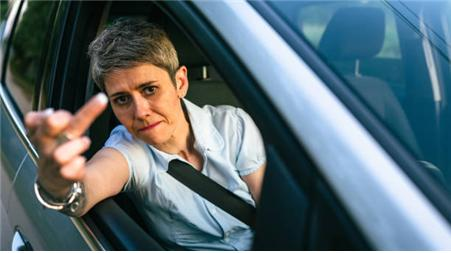insulting_gesture: (22, 92, 108, 193)
